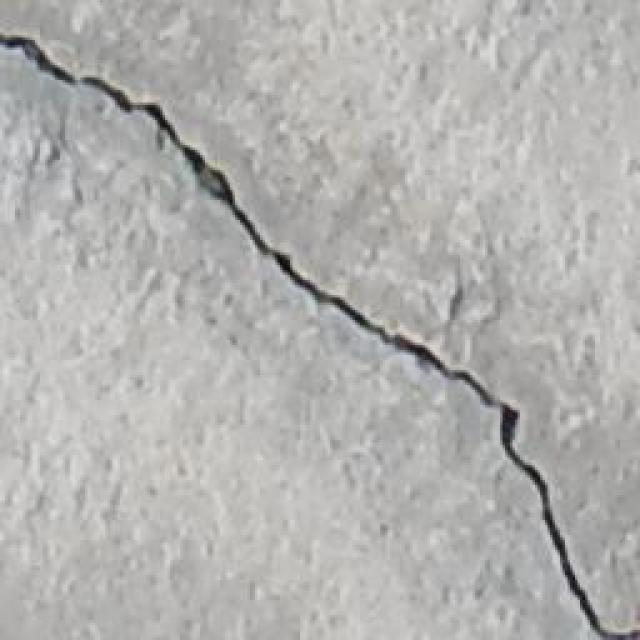concrete-crack: (0, 32, 640, 640)
